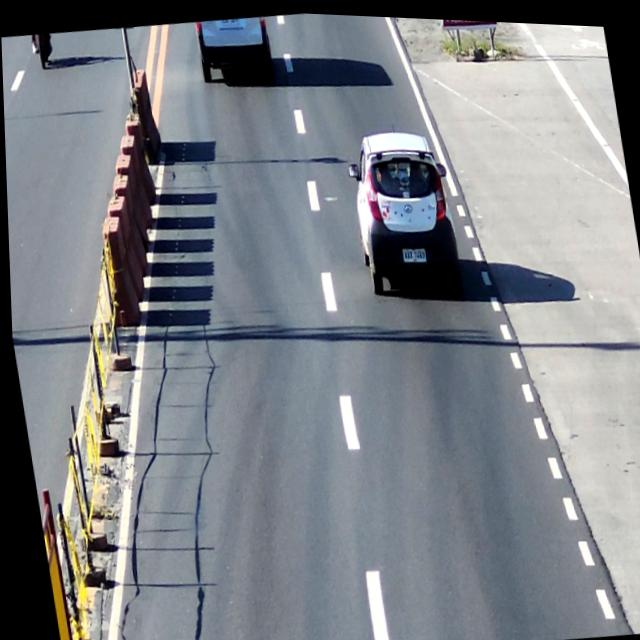Car: (345, 120, 466, 315), (194, 11, 278, 94)
License-Plate: (398, 239, 427, 266)
